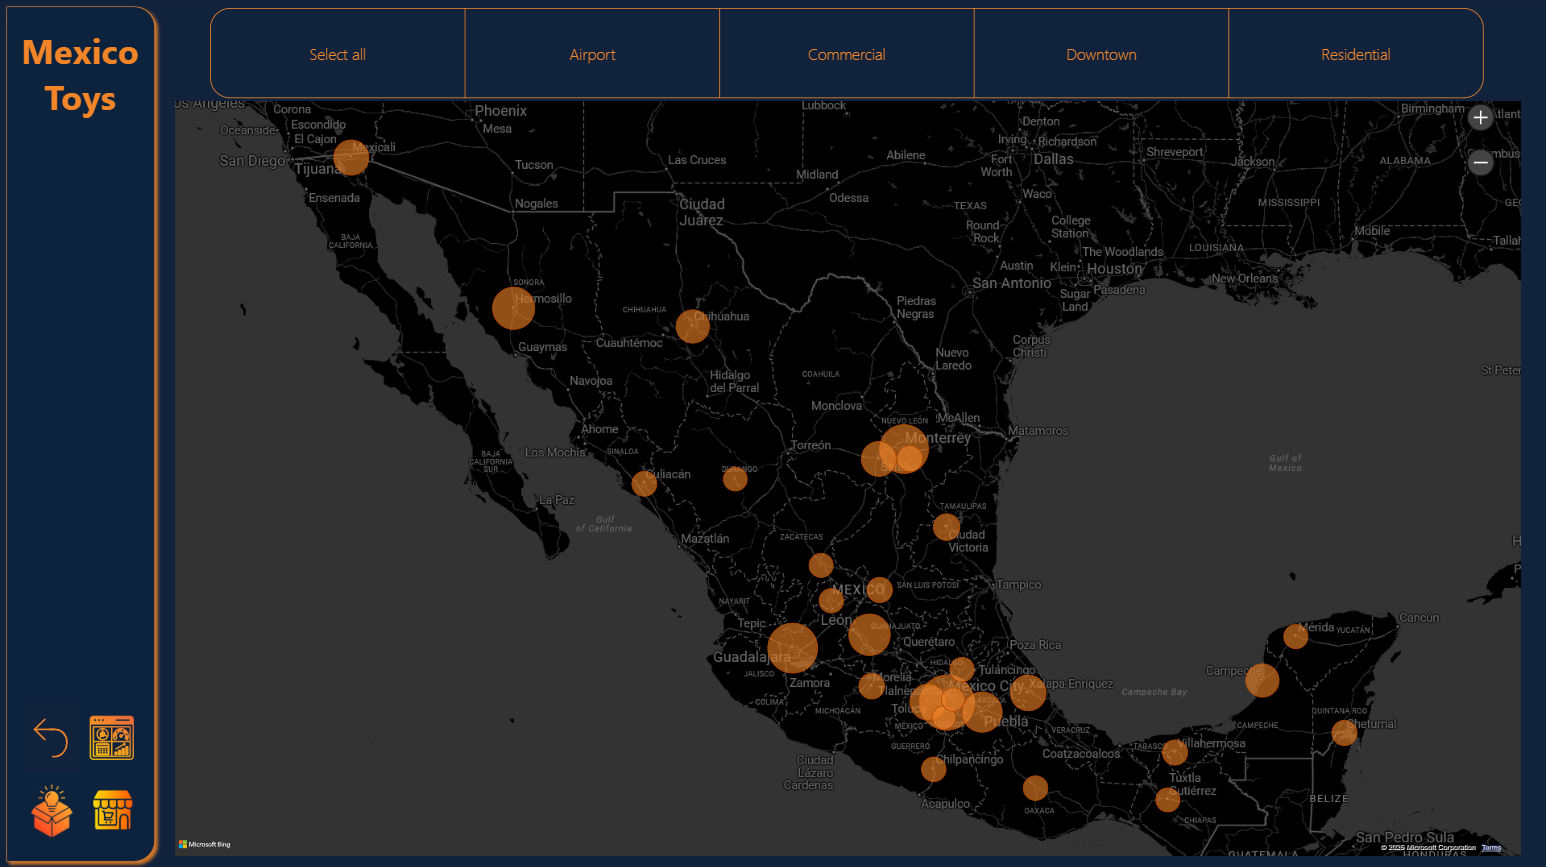

This screenshot's page, from the dashboard's own definition file:
{"tool":"powerbi","page":{"name":"Map","canvas":[1920,1080],"ordinal":1},"visuals":[{"type":"map","fields":{"Category":["stores.Store_Place"],"Size":["Measures Table.Total Sales"]},"box":[202.9,112.9,1702.9,967.1],"z":0},{"type":"advancedSlicerVisual","fields":{"Values":["stores.Store_Location"]},"box":[242.1,11.2,1621.2,113],"z":1000},{"type":"shape","box":[0,0,202.8,1080],"z":2000},{"type":"textbox","box":[25,35,151.7,128.3],"z":3000},{"type":"actionButton","title":"Filter reset Map","box":[30.3,873.2,69.8,89.6],"z":4000},{"type":"image","title":"Main Page","box":[105.8,873.1,69,89],"z":5000},{"type":"image","title":"Stores page","box":[106.7,961.5,69,89],"z":6000},{"type":"image","title":"Product page","box":[31.6,962.8,69,89],"z":7000}]}

Visuals, with their boxes in screenshot pixels (x1, y1, x2, y2), scaled from the page's 1920x1080 canvas onto the 1546x867 screenshot:
map - stores.Store_Place x Measures Table.Total Sales: 163,91,1535,866
advancedSlicerVisual - stores.Store_Location: 195,9,1500,100
shape: 0,0,163,866
textbox: 20,28,142,131
"Filter reset Map" actionButton: 24,701,81,773
"Main Page" image: 85,701,141,772
"Stores page" image: 86,772,141,843
"Product page" image: 25,773,81,844
